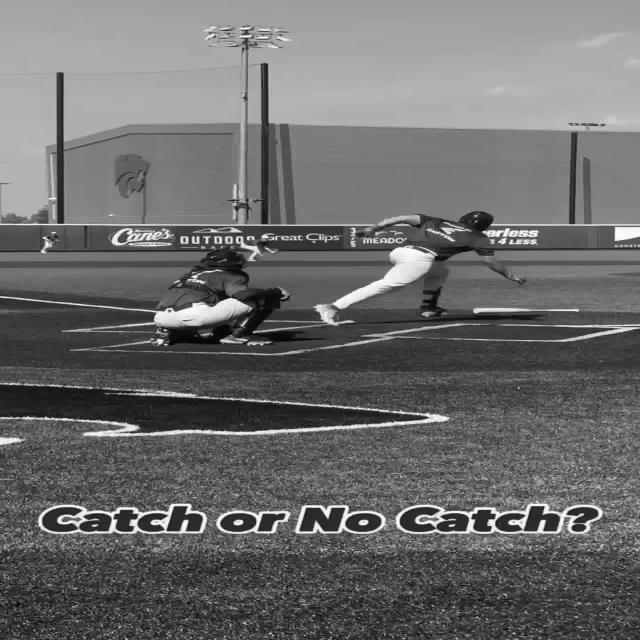baseball: (312, 241, 316, 243)
baseball_glove: (490, 266, 527, 285), (354, 225, 382, 238)
bat: (474, 307, 579, 315)
shoe: (218, 334, 274, 346), (312, 304, 340, 326), (150, 327, 174, 346), (418, 306, 446, 318), (419, 310, 441, 317)
